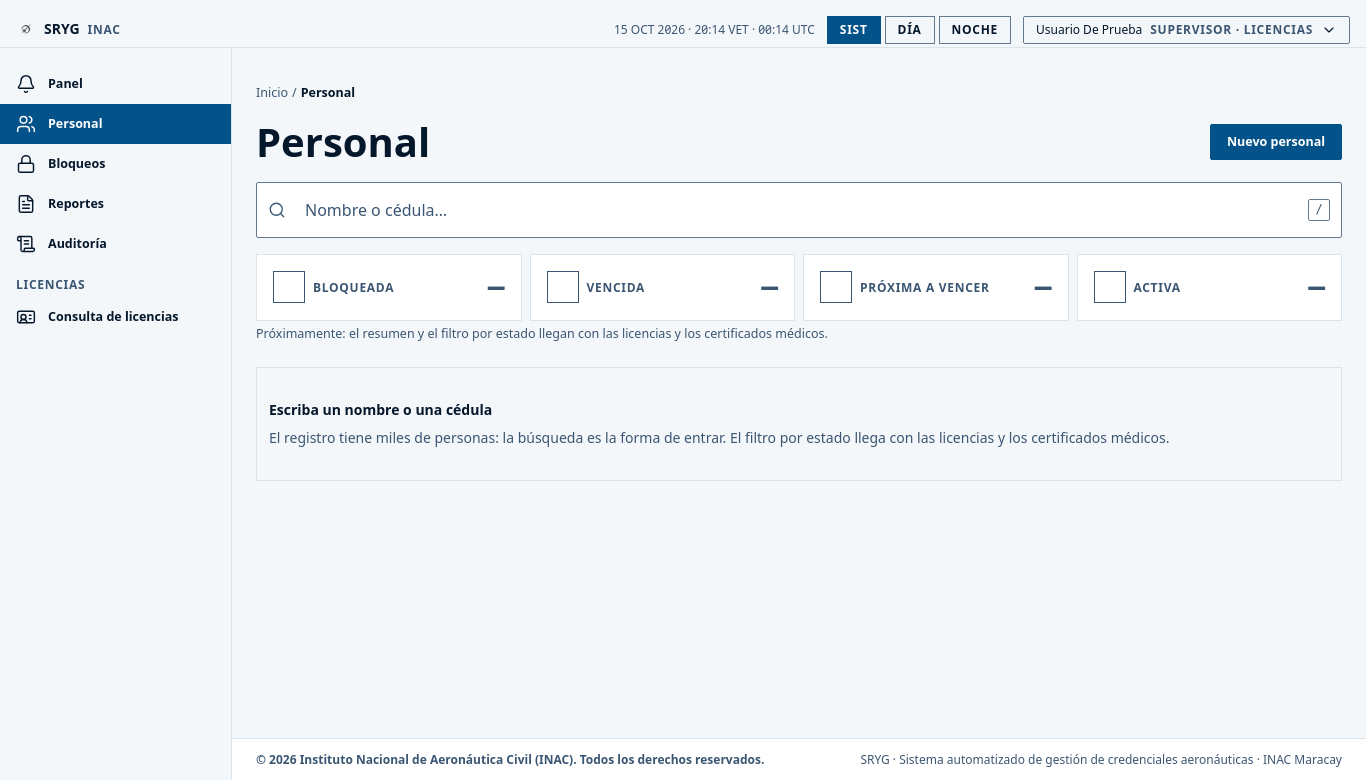
Test case: Listado de personal on the API › searches by name or cédula on the server and links each row to its Expediente
In the search field named "Buscar por nombre o cédula": [799, 210] box x1=256 y1=182 x2=1342 y2=238, type "prueba"
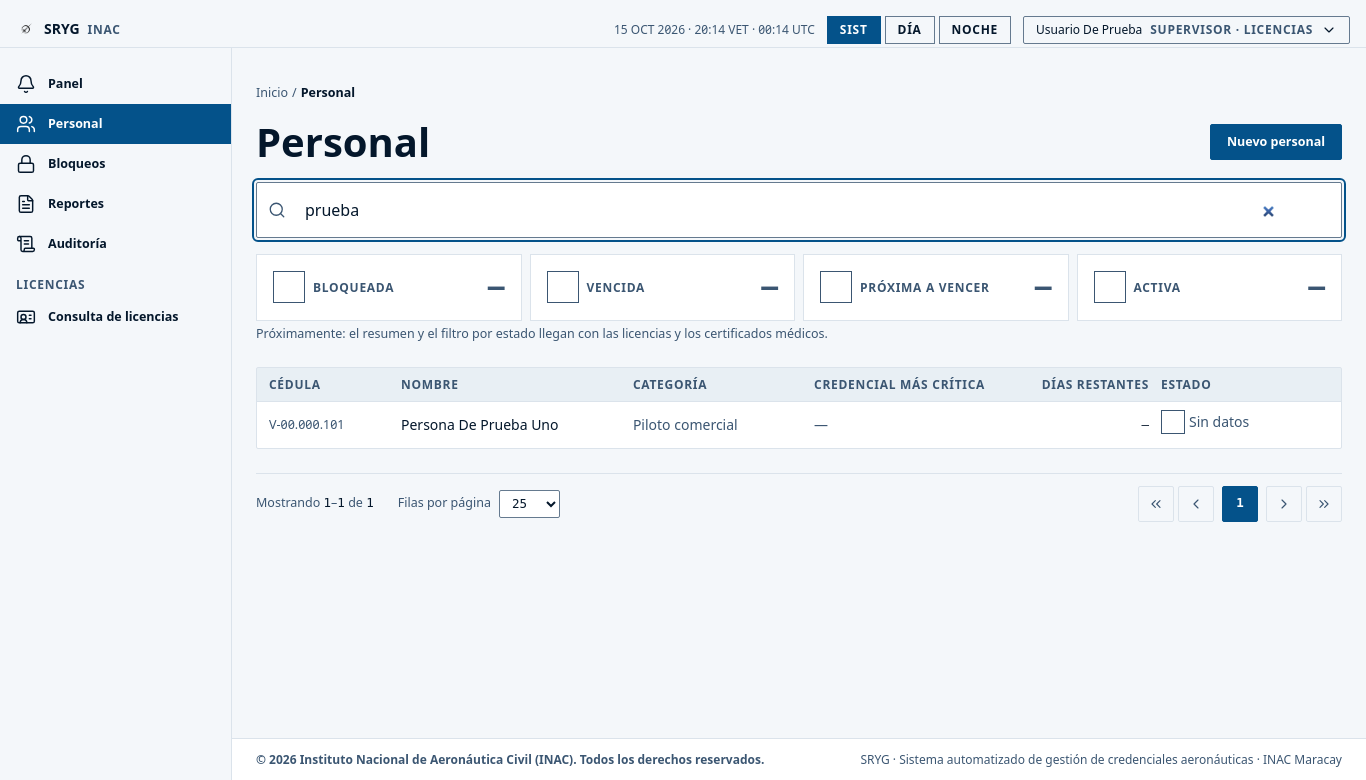
Expected: the link "Persona De Prueba Uno" shows "Piloto comercial", x1=269 y1=410 x2=1249 y2=434
Expected: the link "Persona De Prueba Uno" shows "Sin datos", x1=269 y1=410 x2=1249 y2=434
